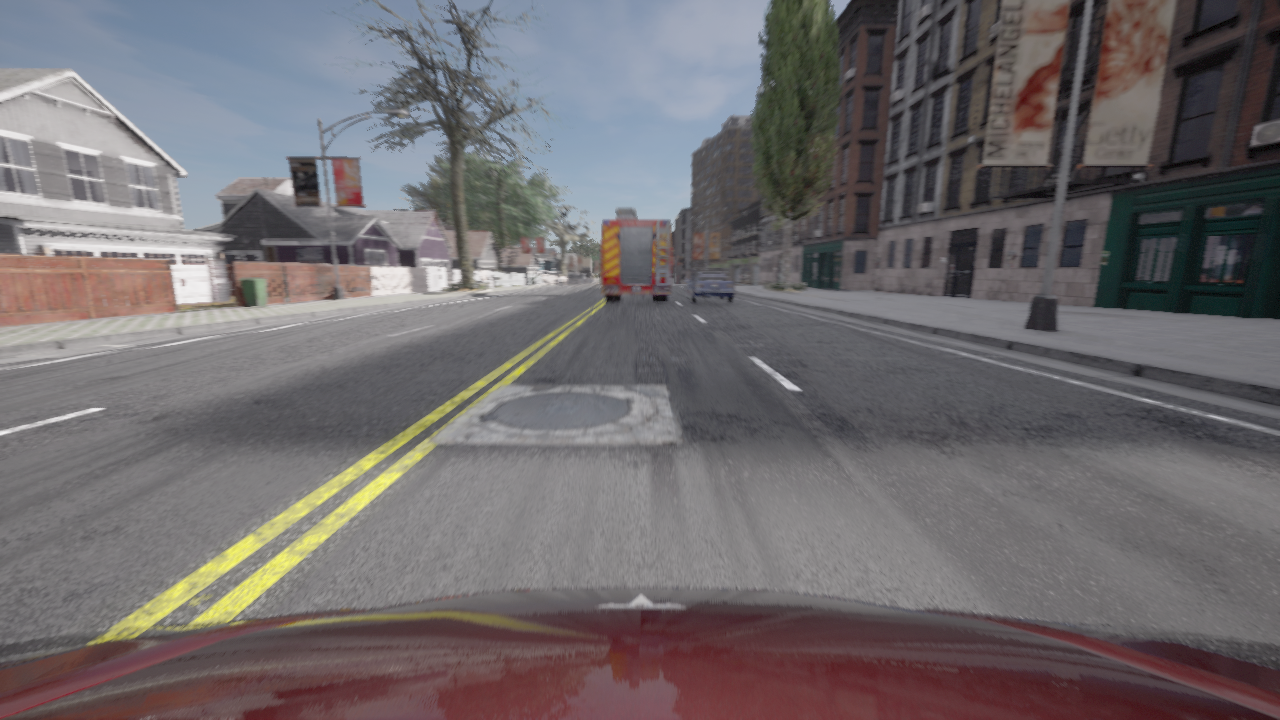cyclist: (0, 588, 1279, 719), (601, 208, 671, 302), (686, 270, 735, 302)
